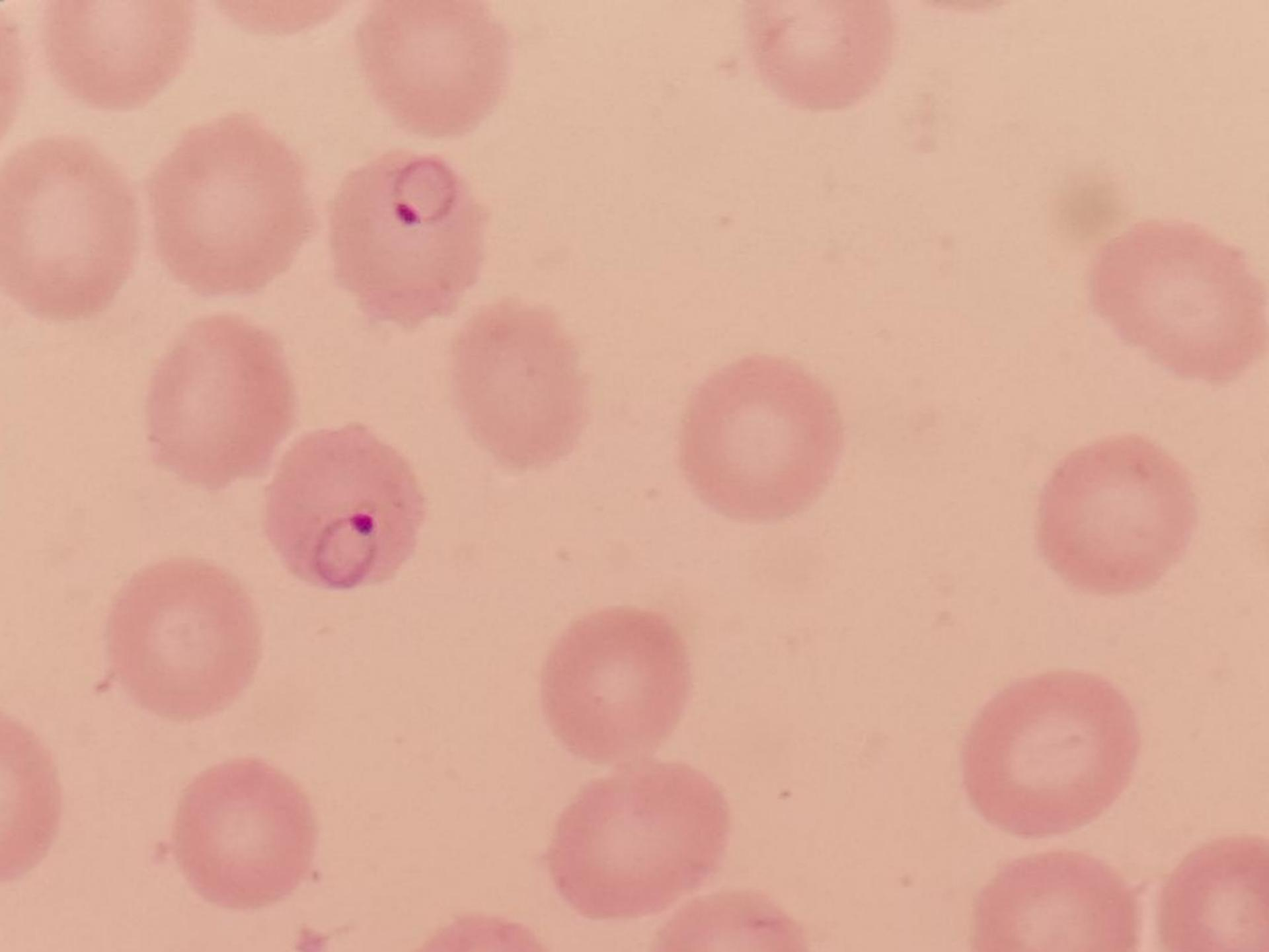Infected: (329, 146, 488, 328), (263, 430, 420, 586)
Uninfected: (154, 113, 318, 299), (1094, 218, 1269, 385), (965, 671, 1139, 833), (549, 767, 730, 922), (677, 355, 843, 522), (144, 317, 294, 492), (1039, 431, 1197, 596), (0, 139, 140, 324), (104, 557, 263, 715), (451, 299, 589, 474), (170, 760, 321, 907), (544, 605, 692, 754), (355, 0, 511, 134), (752, 0, 899, 117), (41, 0, 194, 111), (980, 846, 1140, 952)
